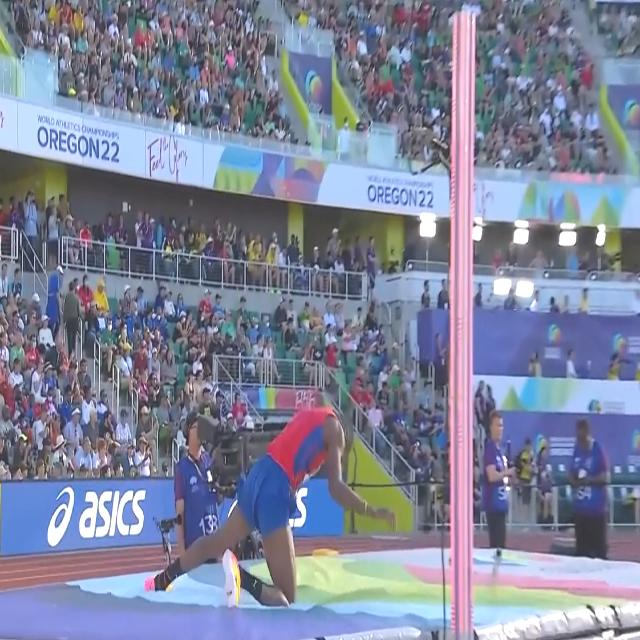land: (145, 400, 395, 608)
